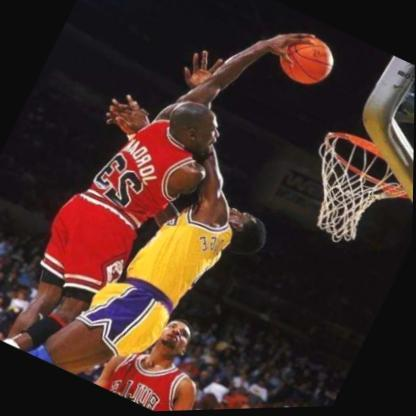basketball: (272, 29, 343, 98)
rim: (285, 122, 414, 261)
